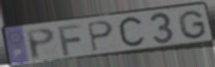3: (149, 10, 176, 46)
C: (116, 14, 148, 50)
F: (56, 23, 84, 57)
G: (177, 9, 209, 40)
P: (24, 26, 57, 61), (85, 20, 115, 54)
